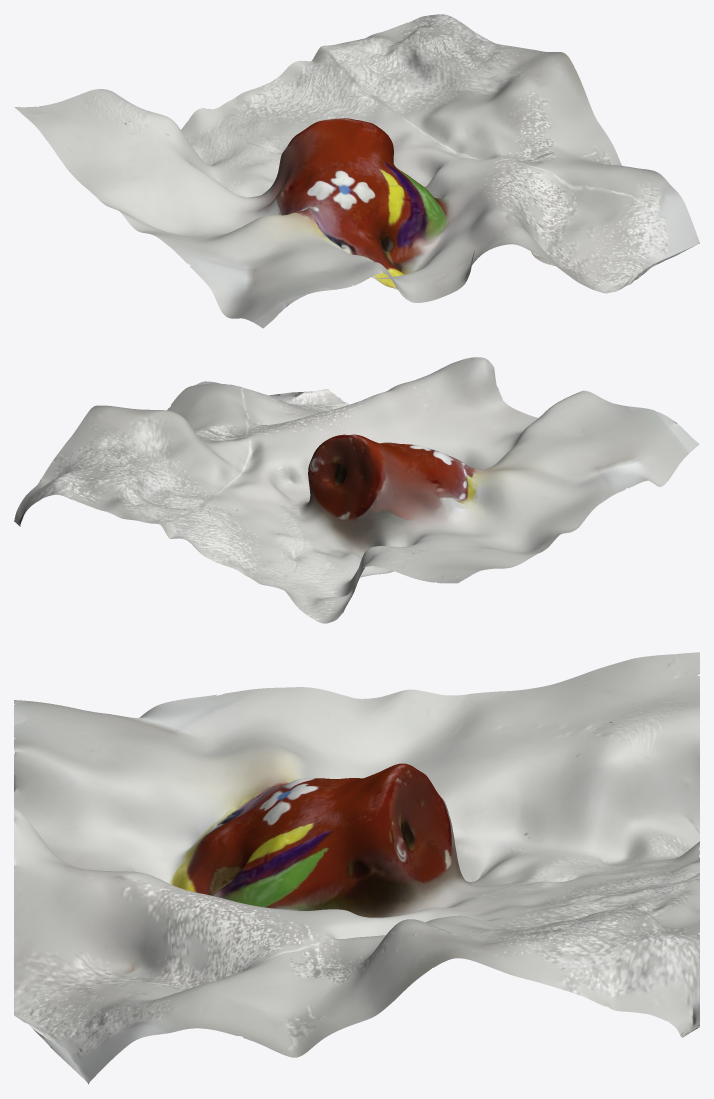
3 renders of one model, top to bottom at view 1: azimuth 30°, elevation 25°; view 2: azimuth 150°, elevation 25°; view 3: azimuth 270°, elevation 25°, orthographic. The views are drawn at different scales.
Bounding box in the file's own units: 0.8332 × 0.1815 × 0.7751.
Materials: 1 (1 with a texture image).
